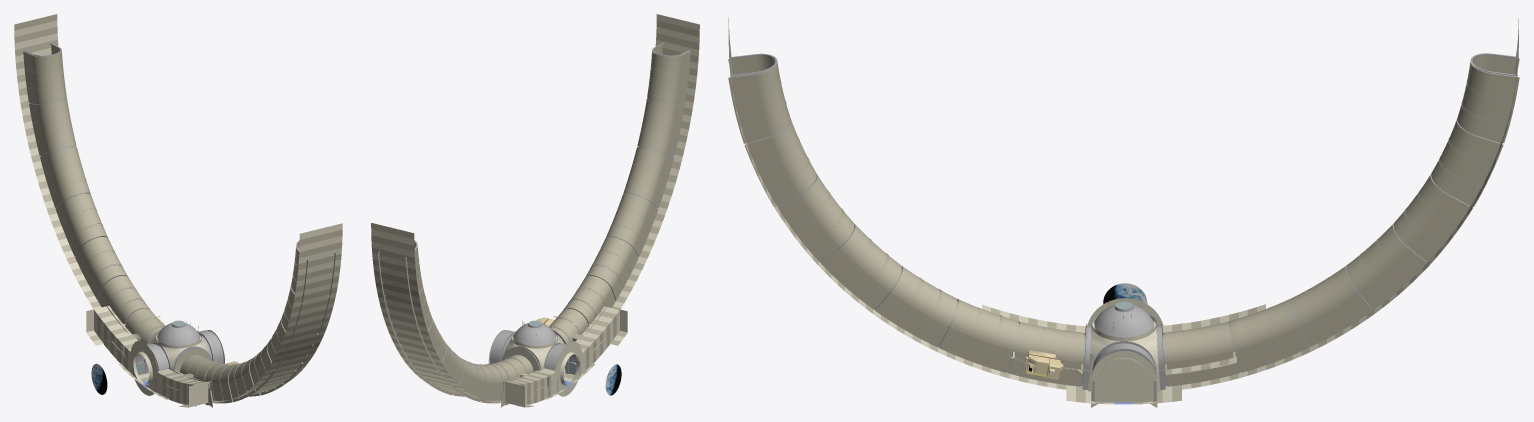
The model's file is RingTest1.2.fbx.
The picture shows the model from 3 angles, left to right: view 1: azimuth 30°, elevation 25°; view 2: azimuth 150°, elevation 25°; view 3: azimuth 270°, elevation 25°; orthographic projection. The views are drawn at different scales.
Parts seen in each view (by area): view 1: Cylinder.011, Cylinder.090; view 2: Cylinder.011, Cylinder.090; view 3: Cylinder.011, Cylinder.090.
Part boxes in pixels (<box>): Cylinder.011: <box>23,43,335,407</box>; Cylinder.090: <box>14,14,342,407</box>; Cylinder.011: <box>378,43,690,407</box>; Cylinder.090: <box>371,14,699,402</box>; Cylinder.011: <box>728,53,1519,407</box>; Cylinder.090: <box>728,17,1518,388</box>.
Bounding box in the file's own units: 3605 × 7768 × 15347.
